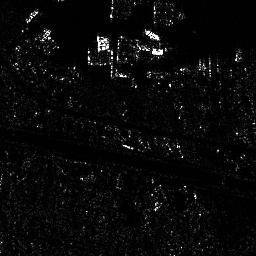ship: (24, 6, 41, 25)
